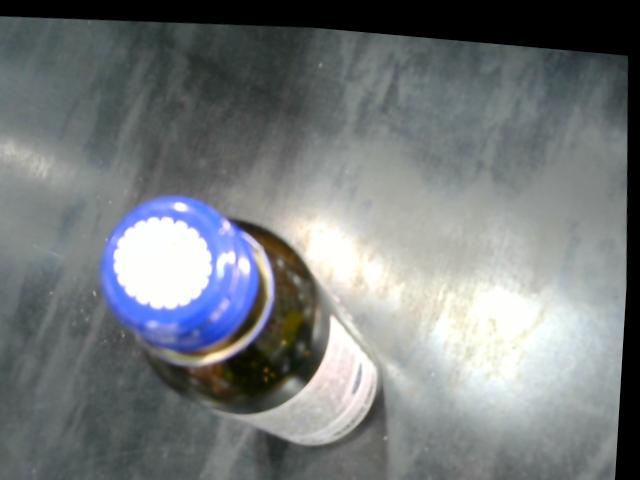glass: (99, 187, 395, 456)
